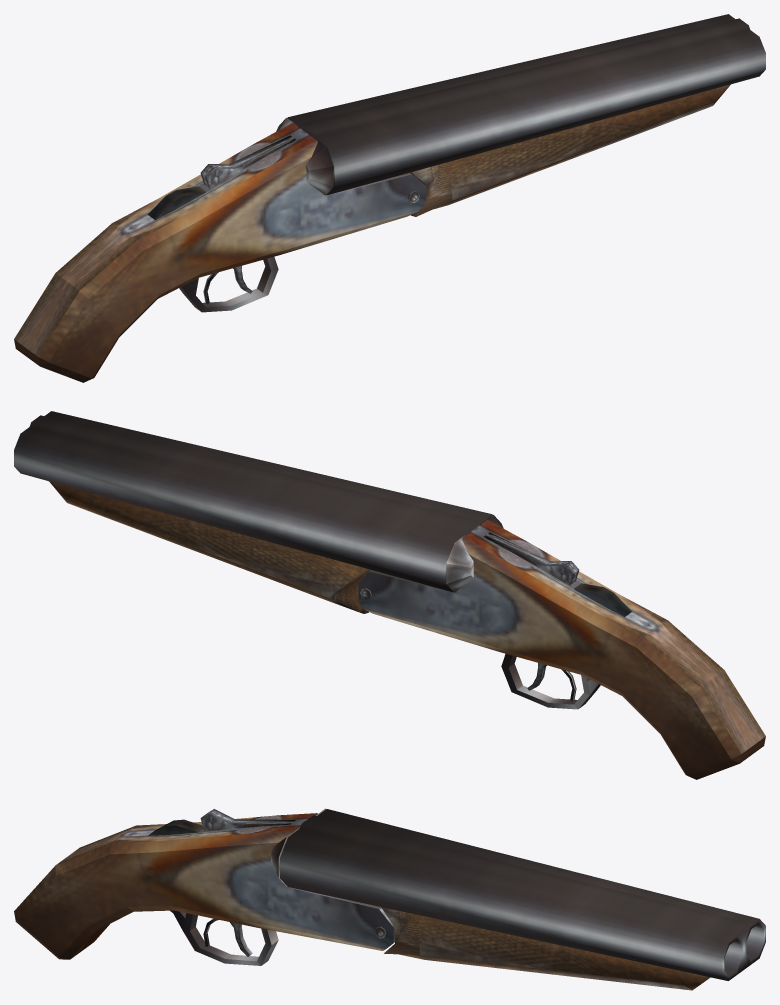
File: Shotgun.fbx
The picture shows the model from 3 angles, top to bottom: view 1: azimuth 30°, elevation 25°; view 2: azimuth 150°, elevation 25°; view 3: azimuth 330°, elevation 25°; orthographic projection.
Visible parts, largest first — view 1: Barrel, Handle, Hammer, Safety; view 2: Barrel, Handle, Hammer, Safety; view 3: Barrel, Handle, Hammer, Safety.
Boxes of the visible parts, box(x1,y1,x2,y2) form: Barrel: box(287, 14, 765, 216); Handle: box(14, 117, 426, 382); Hammer: box(200, 135, 295, 188); Safety: box(148, 186, 205, 220); Barrel: box(14, 411, 492, 613); Handle: box(358, 514, 765, 779); Hammer: box(484, 532, 579, 585); Safety: box(574, 583, 632, 617); Barrel: box(280, 809, 765, 990); Handle: box(14, 808, 394, 965); Hammer: box(200, 809, 295, 831); Safety: box(148, 819, 203, 835).
Size of the model in its own units: 442 by 111 by 58.75.
